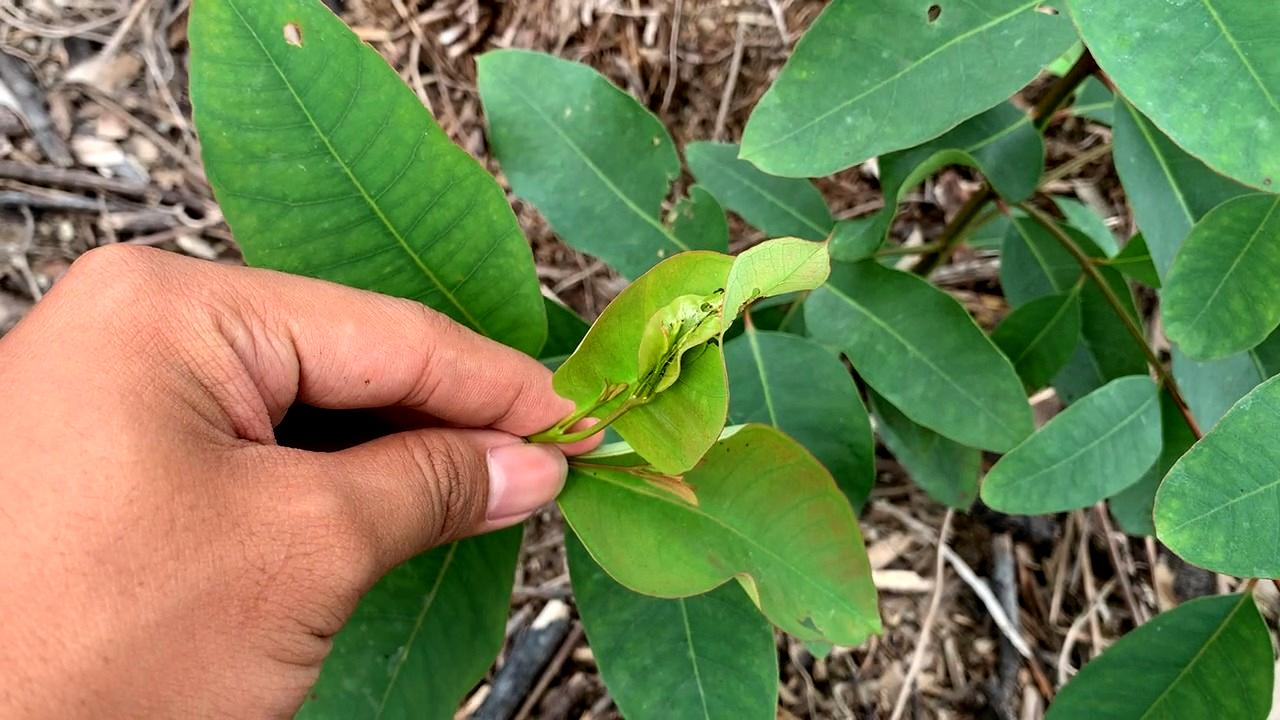Leaf Roller - Leaf: (547, 210, 846, 483)
